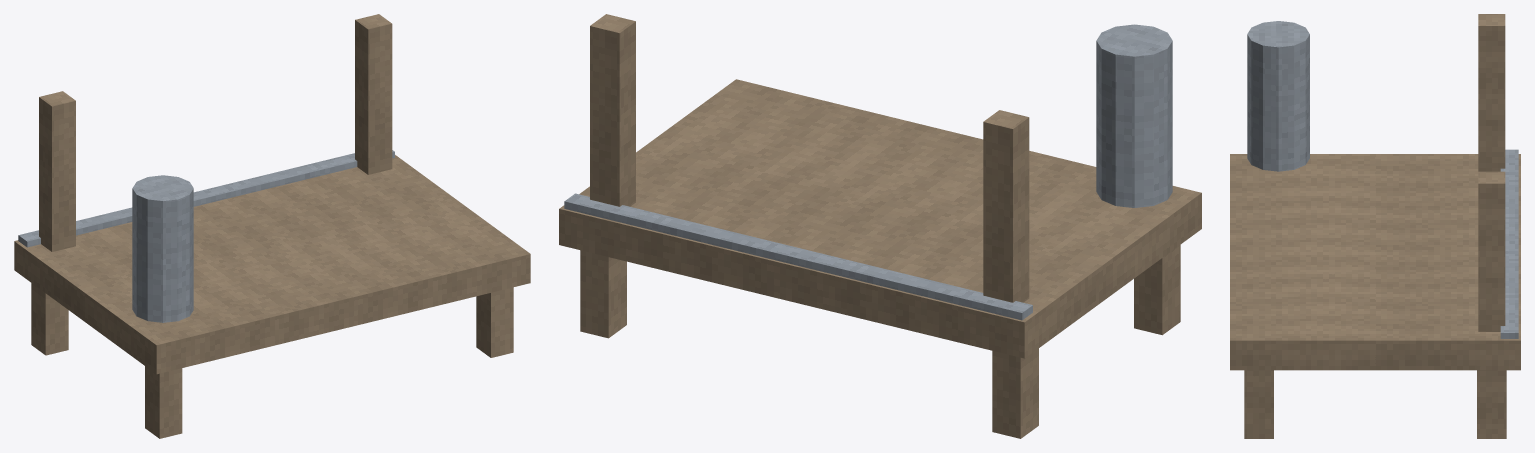
The model's file is level_blockout_marsh_ferry_stage.glb.
3 views of the same model, side by side, from view 1: azimuth 30°, elevation 25°; view 2: azimuth 150°, elevation 25°; view 3: azimuth 270°, elevation 25° (orthographic). The views are drawn at different scales.
Parts seen in each view (by area): view 1: level_blockout_marsh_ferry_stage; view 2: level_blockout_marsh_ferry_stage; view 3: level_blockout_marsh_ferry_stage.
Part boxes in pixels (<box>): level_blockout_marsh_ferry_stage: <box>14,14,530,438</box>; level_blockout_marsh_ferry_stage: <box>559,14,1201,438</box>; level_blockout_marsh_ferry_stage: <box>1230,14,1520,438</box>.
Size of the model in its own units: 2.96 by 1.87 by 1.95.
2 materials, 2 textured.
